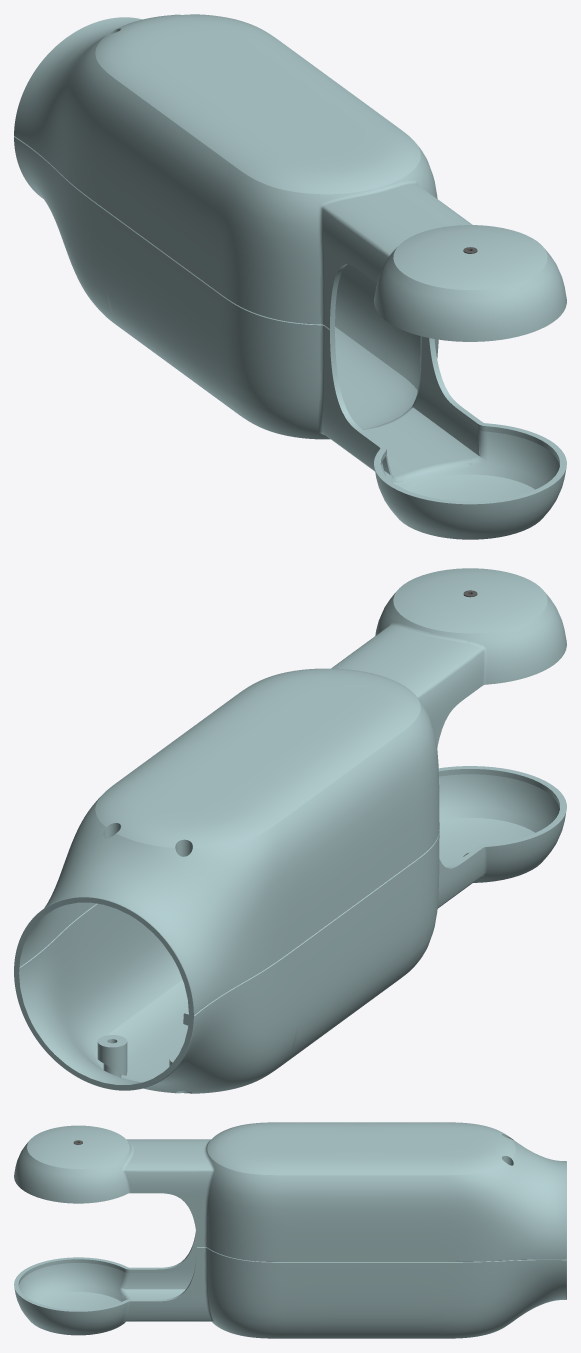
The model's file is right_arm_link5.obj.
The picture shows the model from 3 angles, top to bottom: view 1: azimuth 30°, elevation 25°; view 2: azimuth 150°, elevation 25°; view 3: azimuth 270°, elevation 25°; orthographic projection. The views are drawn at different scales.
Parts seen in each view (by area): view 1: 1; view 2: 1; view 3: 1.
Boxes of the visible parts, bbox=[...] form: 1: bbox=[14, 14, 566, 539]; 1: bbox=[14, 568, 566, 1093]; 1: bbox=[14, 1122, 566, 1338].
Bounding box in the file's own units: 0.076 × 0.0987 × 0.2802.
